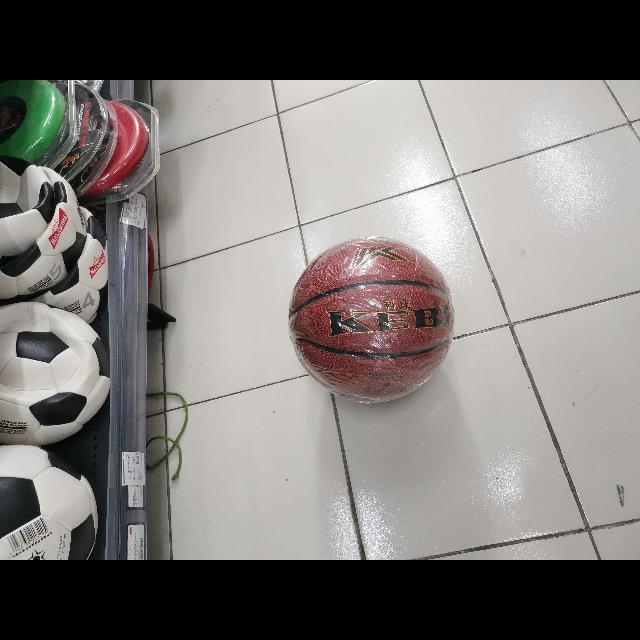basketball: (292, 240, 452, 400)
